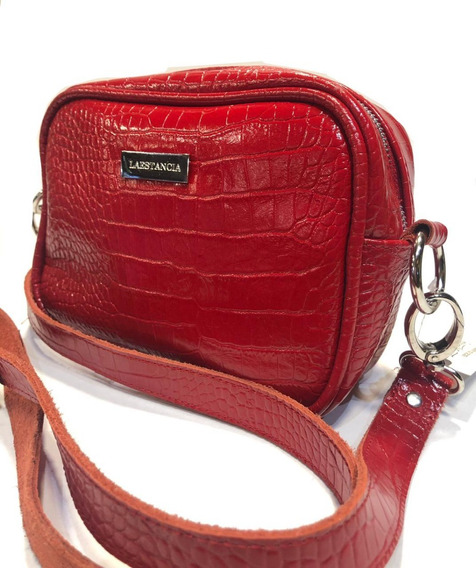cartera: (23, 63, 417, 420)
